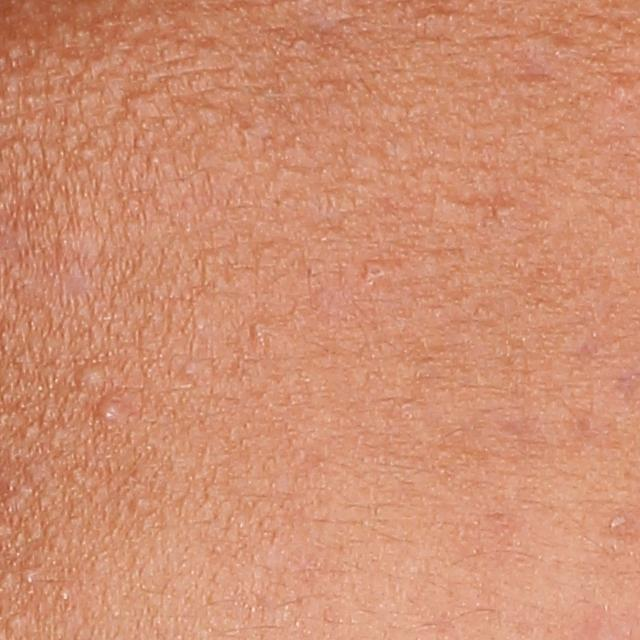comedo: (74, 364, 109, 393), (361, 260, 389, 286), (96, 398, 125, 423), (129, 495, 152, 515), (181, 359, 199, 377), (6, 611, 22, 631)
